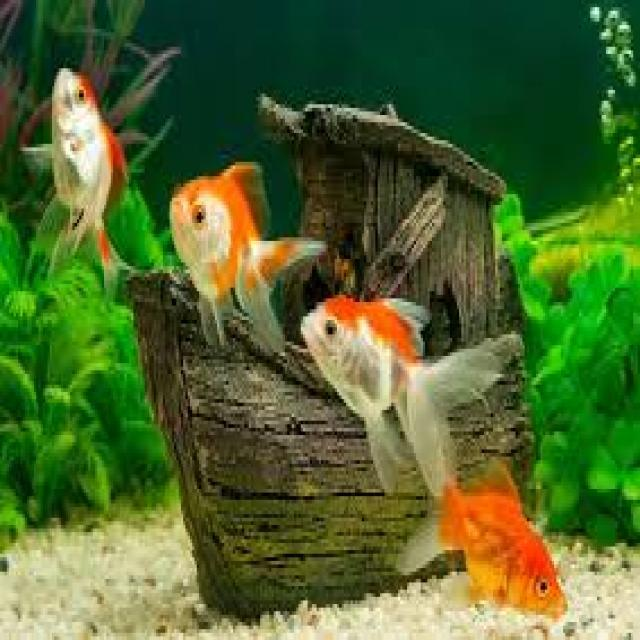goldfish: (302, 295, 512, 496), (170, 162, 326, 352), (400, 461, 566, 618), (51, 69, 126, 288)
